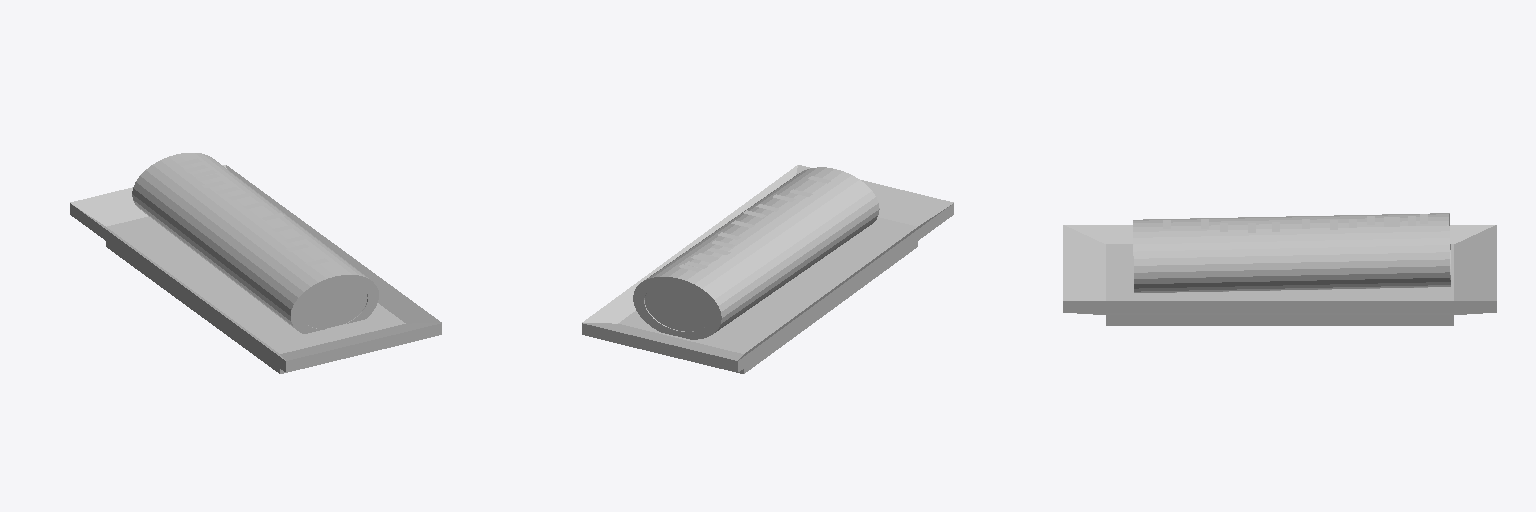
Rendered from ROTI GULUNG keju .obj.
3 views of the same model, side by side, from view 1: azimuth 30°, elevation 25°; view 2: azimuth 150°, elevation 25°; view 3: azimuth 270°, elevation 25° (orthographic).
Visible parts, largest first — view 1: Cube, Cylinder.003, Cylinder.002; view 2: Cube, Cylinder.003, Cylinder.002; view 3: Cylinder.003, Cube.
Boxes of the visible parts, x1,y1,x2,y2 form: Cube: [70, 165, 441, 373]; Cylinder.003: [132, 153, 378, 333]; Cylinder.002: [302, 283, 367, 328]; Cube: [582, 165, 953, 373]; Cylinder.003: [633, 167, 879, 339]; Cylinder.002: [645, 285, 710, 331]; Cylinder.003: [1133, 213, 1450, 292]; Cube: [1063, 225, 1496, 325].
Bounding box in the file's own units: 1.18 × 0.5675 × 2.83.